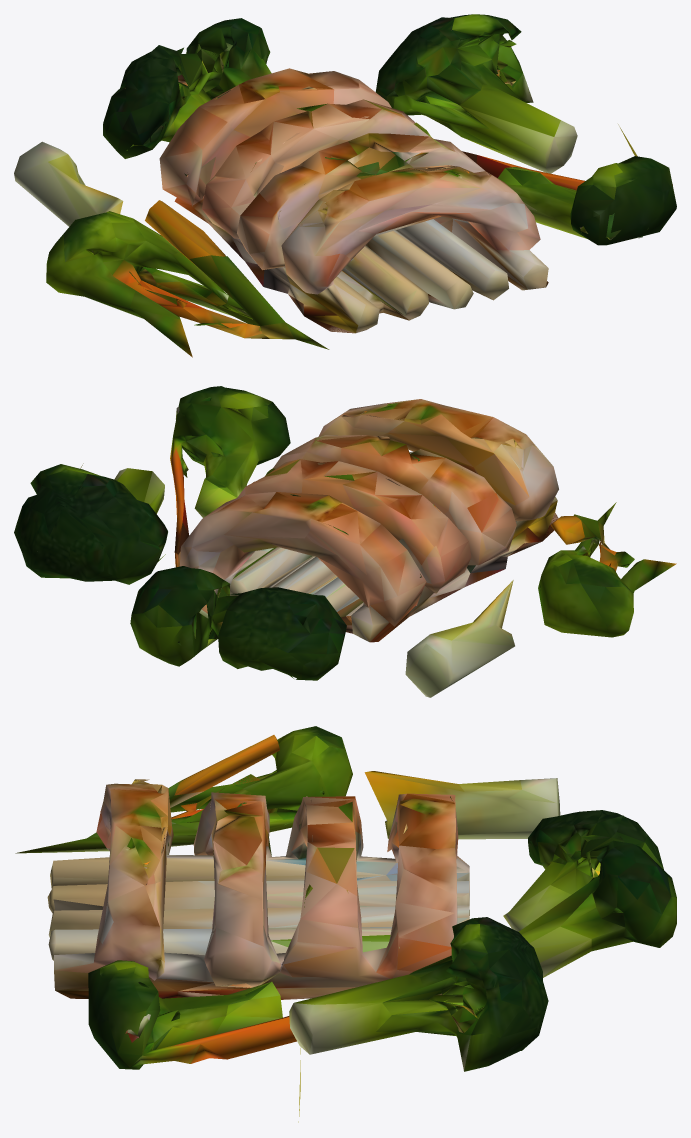
The model's file is 2健康排骨.fbx.
The picture shows the model from 3 angles, top to bottom: view 1: azimuth 30°, elevation 25°; view 2: azimuth 150°, elevation 25°; view 3: azimuth 270°, elevation 25°; orthographic projection. The views are drawn at different scales.
Parts seen in each view (by area): view 1: tripo_node_f8cf20bf_2; view 2: tripo_node_f8cf20bf_2; view 3: tripo_node_f8cf20bf_2.
Part boxes in pixels (x1,y1,x2,y2): tripo_node_f8cf20bf_2: (14, 14, 676, 357); tripo_node_f8cf20bf_2: (14, 386, 676, 697); tripo_node_f8cf20bf_2: (15, 726, 676, 1122).
Size of the model in its own units: 99.66 by 20.58 by 85.62.
1 material, 1 textured.
